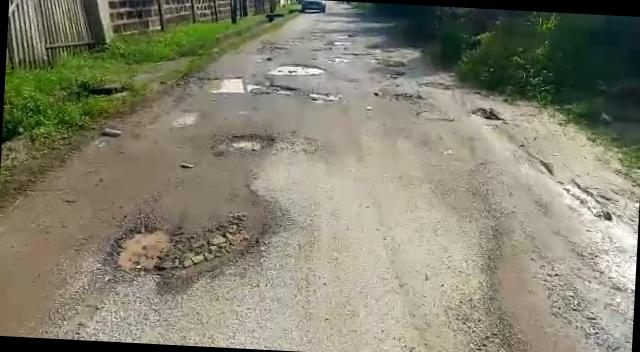pothole: (98, 205, 280, 291), (206, 73, 302, 98), (212, 128, 277, 154), (267, 60, 326, 76), (304, 91, 338, 103)
